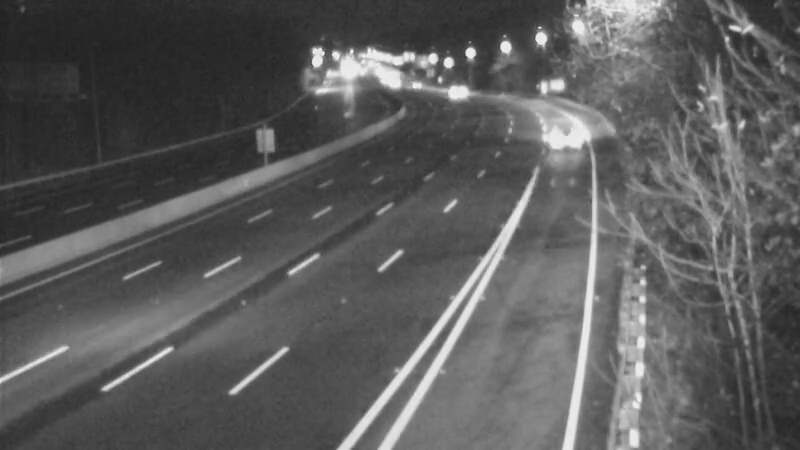vehicle: (390, 62, 440, 112), (428, 68, 478, 118), (535, 99, 585, 149)
